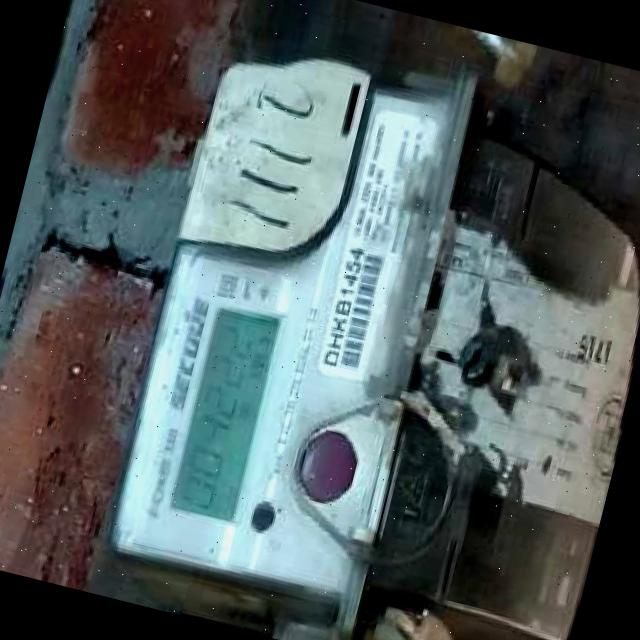LCD: (157, 292, 296, 531)
